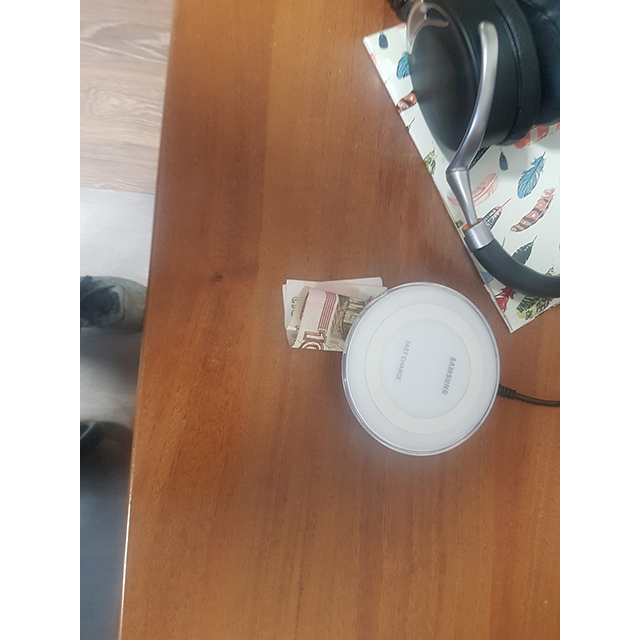banknotes: (281, 278, 385, 350)
